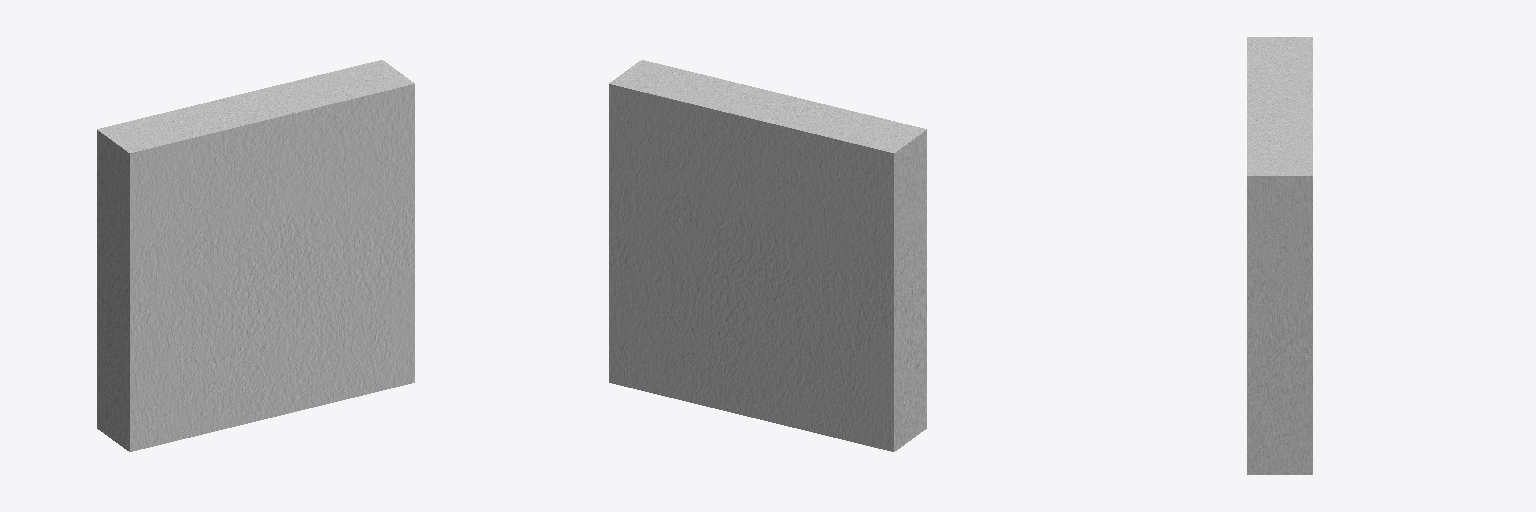
3 views of the same model, side by side, from view 1: azimuth 30°, elevation 25°; view 2: azimuth 150°, elevation 25°; view 3: azimuth 270°, elevation 25° (orthographic).
Visible parts, largest first — view 1: Box001; view 2: Box001; view 3: Box001.
Boxes of the visible parts, box(x1,y1,x2,y2) form: Box001: box(97, 60, 414, 451); Box001: box(609, 60, 926, 451); Box001: box(1247, 37, 1312, 474).
Bounding box in the file's own units: 50 × 50 × 10.
1 materials, 1 textured.